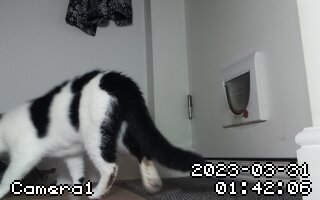bad: (1, 72, 206, 200)
